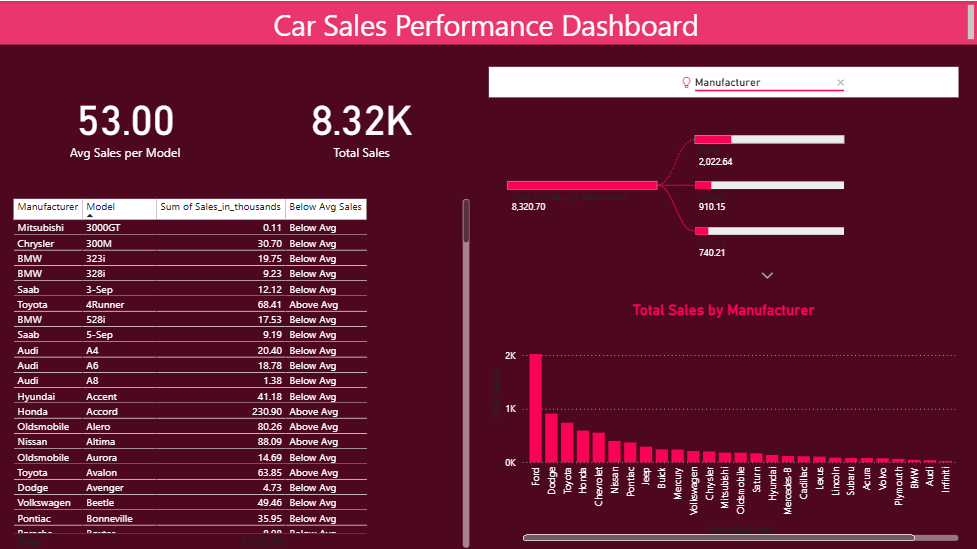

Layout of this report page (visuals, bound fields, positions):
{"tool":"powerbi","page":{"name":"Page 1","canvas":[1280,720],"ordinal":0},"visuals":[{"type":"columnChart","fields":{"Category":["Car.Manufacturer"],"Y":["Car.Total Sales"]},"box":[635,393.1,624.9,319.2],"z":0},{"type":"decompositionTreeVisual","fields":{"Analyze":["Sum(Car.Sales_in_thousands)"],"ExplainBy":["Car.Manufacturer"]},"box":[635,80.6,624.9,304],"z":1000},{"type":"tableEx","fields":{"Values":["Car.Manufacturer","Car.Model","Sum(Car.Sales_in_thousands)","Car.Below Avg Sales"]},"box":[11.8,253.6,608.1,467],"z":2000},{"type":"card","fields":{"Values":["Car.Total Sales"]},"box":[327.6,84,292.3,151.2],"z":3000},{"type":"card","fields":{"Values":["Car.Avg Sales per Model"]},"box":[11.8,84,304,151.2],"z":4000},{"type":"textbox","box":[0,0,1280,57.1],"z":5000}]}

Visuals, with their boxes in screenshot pixels (x1, y1, x2, y2), scaled from the page's 1280x720 canvas onto the 977x549 screenshot:
columnChart - Car.Manufacturer x Car.Total Sales: bbox=(485, 300, 962, 543)
decompositionTreeVisual - Sum(Car.Sales_in_thousands) x Car.Manufacturer: bbox=(485, 61, 962, 293)
tableEx - Car.Manufacturer x Car.Model: bbox=(9, 193, 473, 548)
card - Car.Total Sales: bbox=(250, 64, 473, 179)
card - Car.Avg Sales per Model: bbox=(9, 64, 241, 179)
textbox: bbox=(0, 0, 976, 44)
